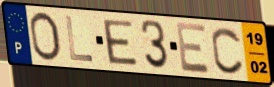3: (139, 19, 171, 72)
C: (210, 26, 246, 77)
E: (174, 21, 212, 75), (101, 18, 140, 68)
L: (63, 15, 95, 64)
O: (28, 10, 64, 63)
